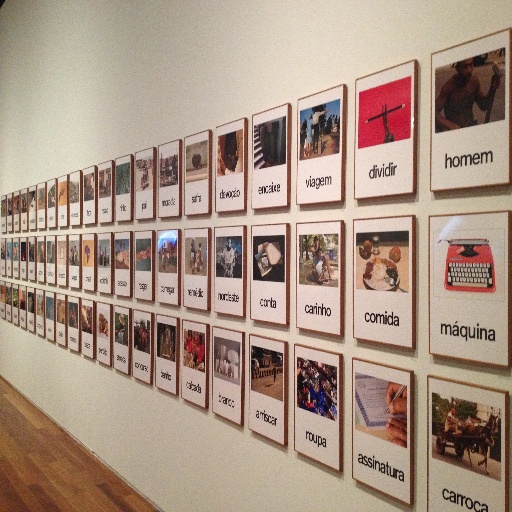hand: (384, 380, 407, 417), (385, 416, 407, 448), (488, 71, 500, 95), (381, 101, 389, 132), (220, 156, 225, 175), (449, 123, 459, 131), (59, 184, 65, 196), (223, 264, 229, 274), (225, 262, 232, 270), (323, 106, 329, 114)
